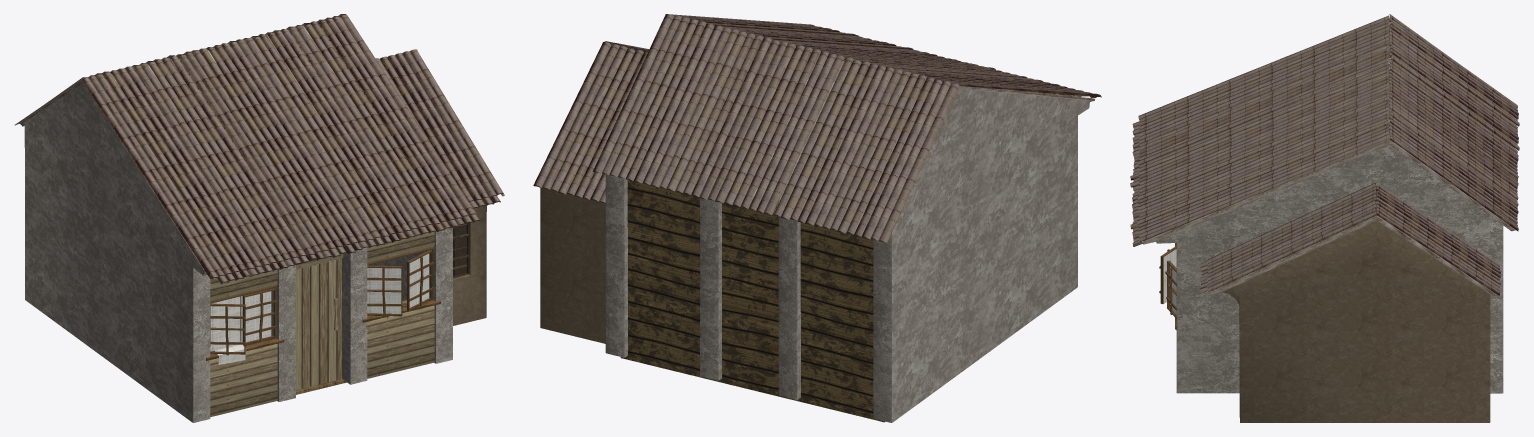
File: house2_LOD0.FBX
The picture shows the model from 3 angles, left to right: view 1: azimuth 30°, elevation 25°; view 2: azimuth 150°, elevation 25°; view 3: azimuth 270°, elevation 25°; orthographic projection. The views are drawn at different scales.
Visible parts, largest first — view 1: roof_tiles3, sidewalls, frontwalls, doors, curtain, side_building, roof_tiles2, Box166, windows2, backwall, beam2, window (+1 smaller); view 2: roof_tiles3, sidewalls, backwall, side_building, beam2; view 3: roof_tiles3, side_building, sidewalls, beam2, roof_tiles2, curtain, Box166.
Boxes of the visible parts, x1,y1,x2,y2 form: roof_tiles3: [14, 14, 503, 279]; sidewalls: [24, 41, 452, 422]; frontwalls: [210, 231, 434, 416]; doors: [296, 258, 341, 389]; curtain: [210, 253, 429, 364]; side_building: [453, 205, 486, 325]; roof_tiles2: [217, 196, 500, 284]; Box166: [210, 249, 433, 354]; windows2: [210, 257, 433, 355]; backwall: [99, 26, 432, 394]; beam2: [20, 16, 504, 279]; window: [453, 223, 469, 278]; roof_tiles3: [533, 14, 1101, 242]; sidewalls: [605, 61, 1089, 422]; backwall: [620, 58, 1079, 422]; side_building: [540, 49, 609, 343]; beam2: [609, 29, 1094, 232]; roof_tiles3: [1137, 14, 1519, 295]; side_building: [1219, 191, 1490, 422]; sidewalls: [1155, 22, 1503, 393]; beam2: [1142, 18, 1515, 296]; roof_tiles2: [1130, 121, 1207, 292]; curtain: [1163, 249, 1176, 314]; Box166: [1160, 246, 1176, 318].
Bounding box in the file's own units: 758 × 590 × 799.
